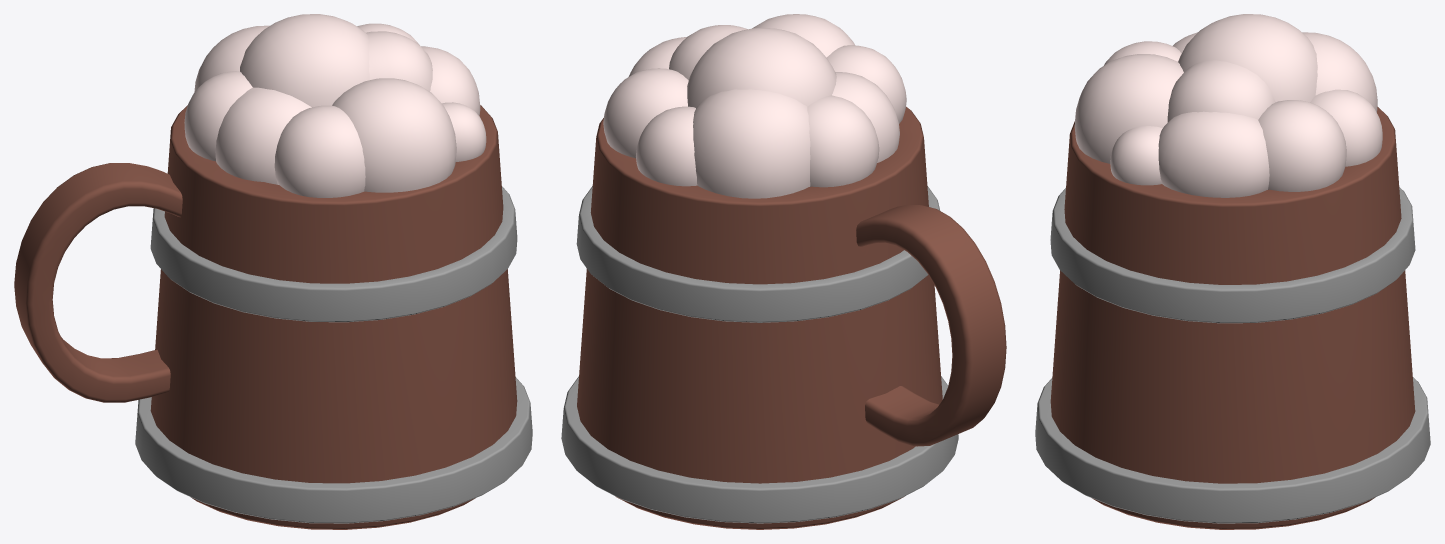
File: Store_16_Big_Beer_mug_1.glb
3 renders of one model, left to right at view 1: azimuth 30°, elevation 25°; view 2: azimuth 150°, elevation 25°; view 3: azimuth 270°, elevation 25°, orthographic.
Visible parts, largest first — view 1: Store_16_Big_Beer_mug_1; view 2: Store_16_Big_Beer_mug_1; view 3: Store_16_Big_Beer_mug_1.
Part boxes in pixels (x1,y1,x2,y2): Store_16_Big_Beer_mug_1: (14, 14, 532, 529); Store_16_Big_Beer_mug_1: (561, 14, 1006, 529); Store_16_Big_Beer_mug_1: (1035, 14, 1430, 529).
Bounding box in the file's own units: 2.74 × 2.52 × 2.1.
Materials: 1 (1 with a texture image).
